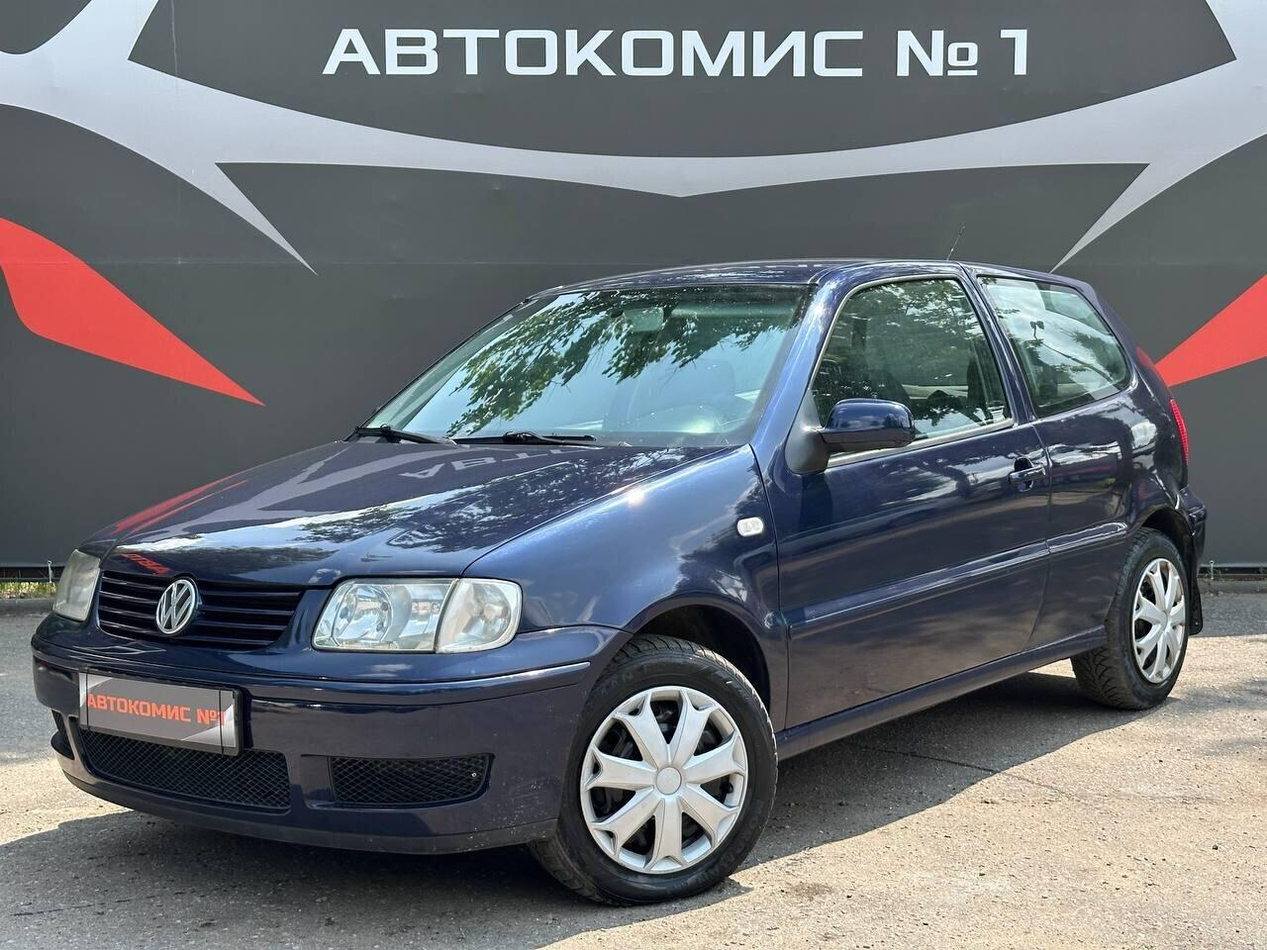Polo_2000-2002: (18, 248, 1210, 906)
